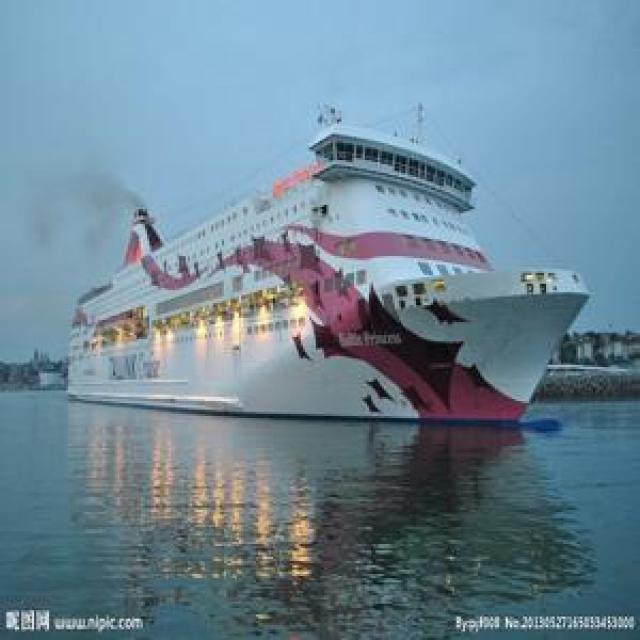passenger ship: (66, 118, 593, 436)
